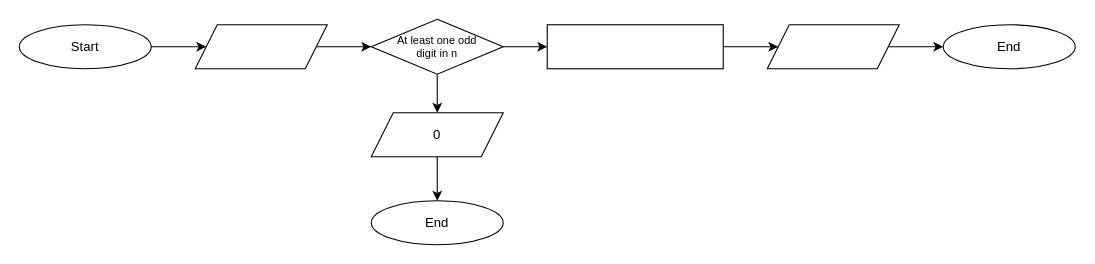
Image size: 1095x264. Some labels were removed from this diagram. The shapes that lost their labels are listed below. From the top down, each one's centre as x and y in pixels, then its label:
At (x=260, y=46): "n: int".
At (x=634, y=46): "Compute the multiplication between the odd digits of n".
At (x=832, y=46): "product".
